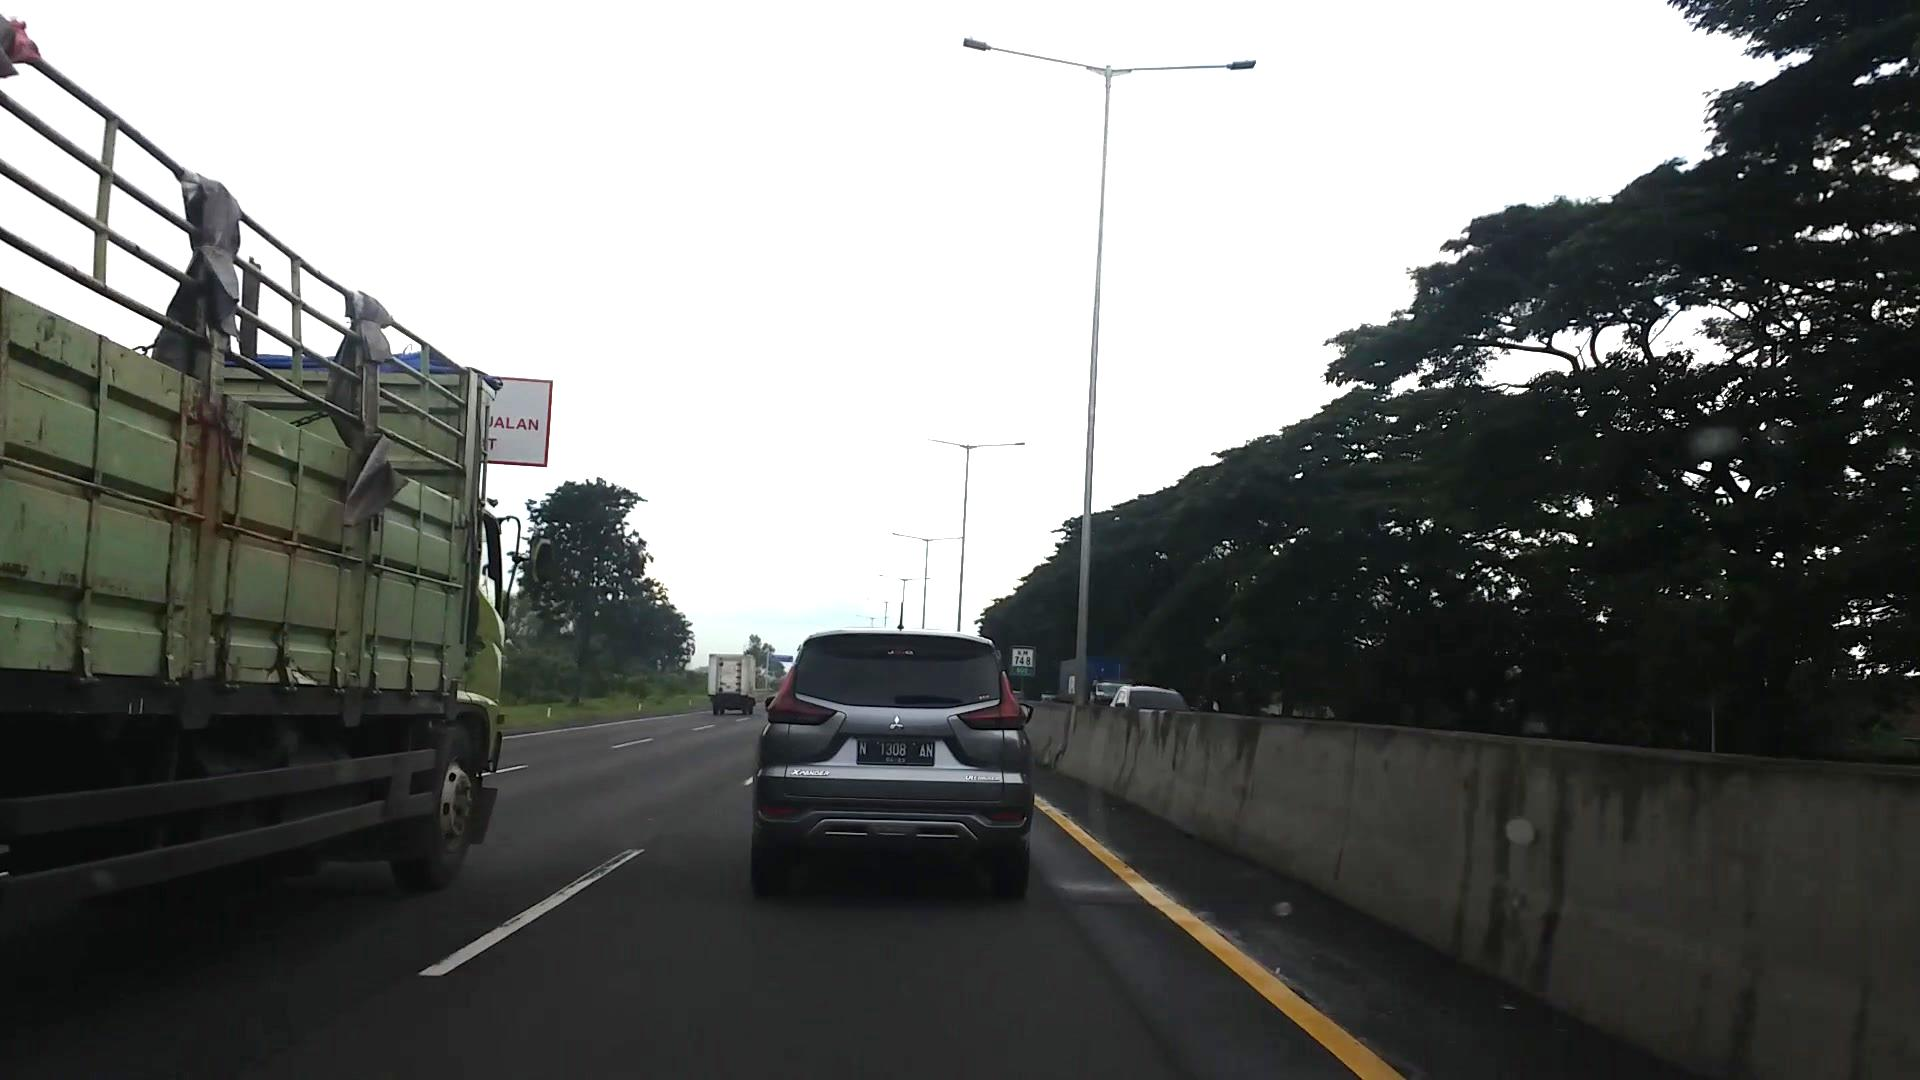plate_positive: (857, 738, 934, 766)
